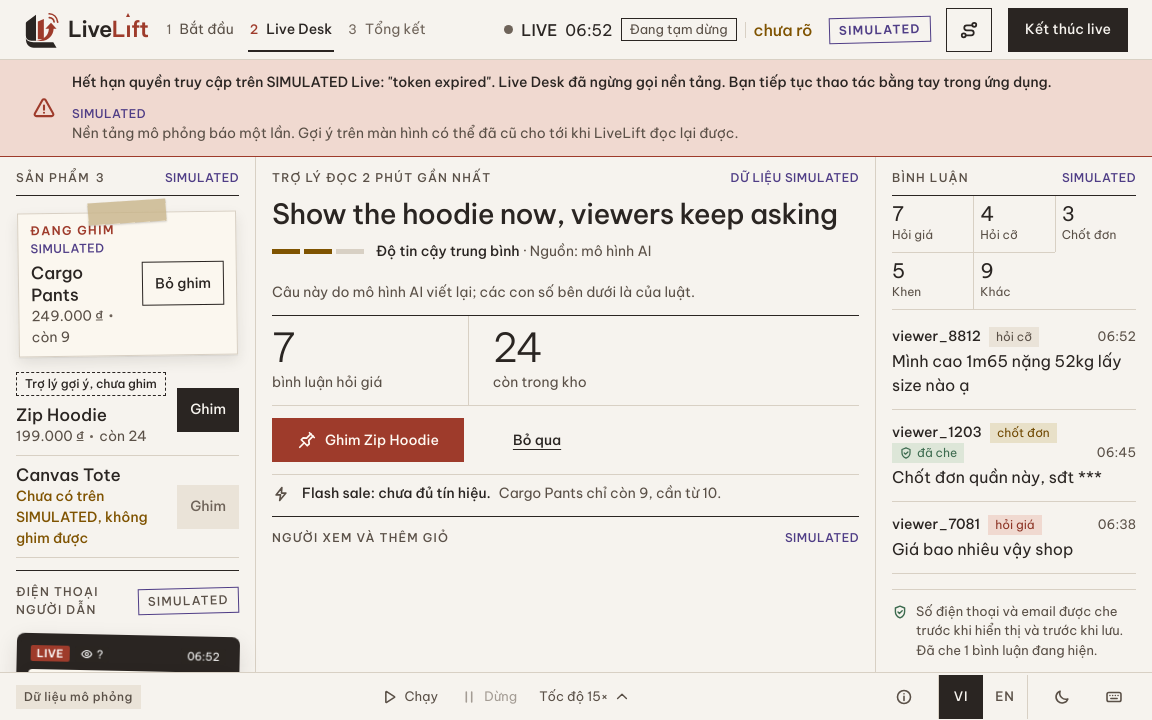
Desk interactions › an AI suggestion keeps the model's wording and says so; the banner, unknown viewers and missing fingerprint stay honest
Expected: the element with test id "desk-copilot" shows "Show the hoodie now, viewers keep asking", left=272, top=196, right=837, bottom=231
Expected: the element with test id "desk-copilot" shows "Câu này do mô hình AI viết lại", left=272, top=283, right=695, bottom=301
Click the button with test id "desk-about-open". click: (904, 696)
box: left=882, top=674, right=926, bottom=718
(page scrolled)
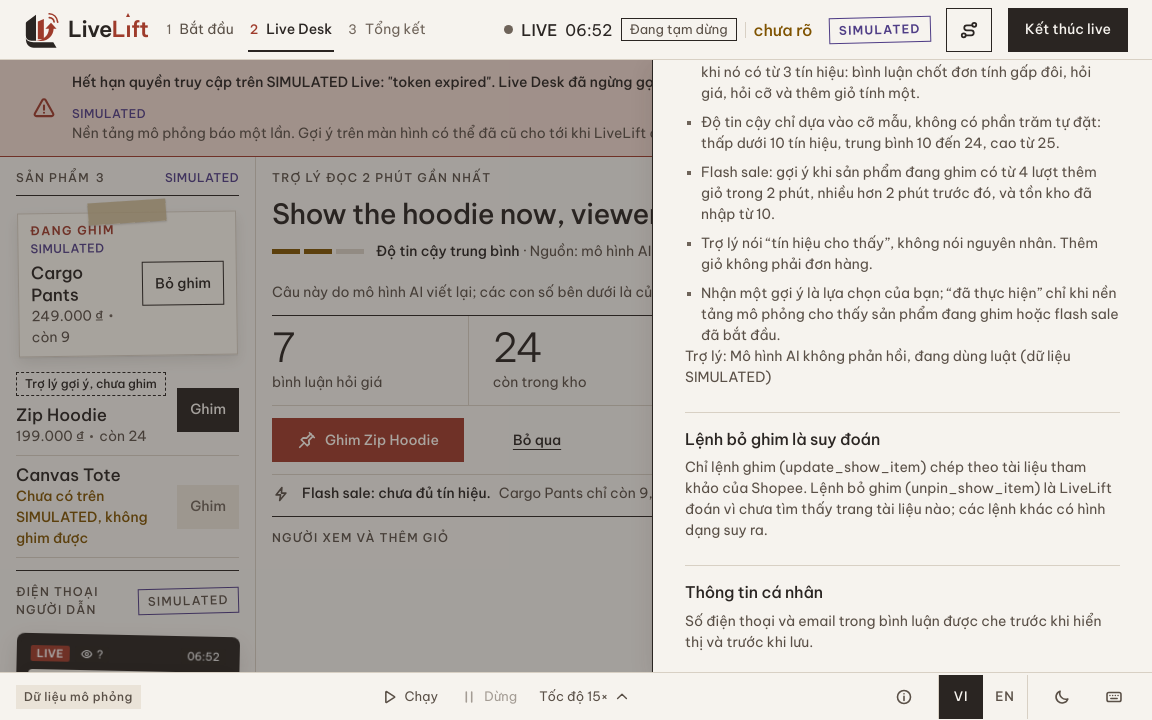
Result: the text with test id "desk-ai-status" reads "Mô hình AI không phản hồi, đang dùng luật (dữ liệu SIMULATED)" at left=685, top=347, right=1071, bottom=386
